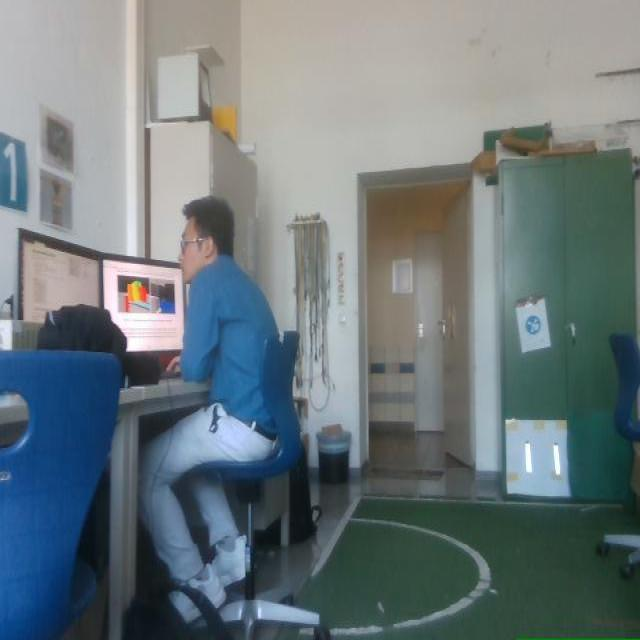humans: (139, 196, 278, 605)
objects: (0, 351, 119, 639), (102, 255, 184, 353), (16, 229, 100, 321), (122, 583, 230, 639)
